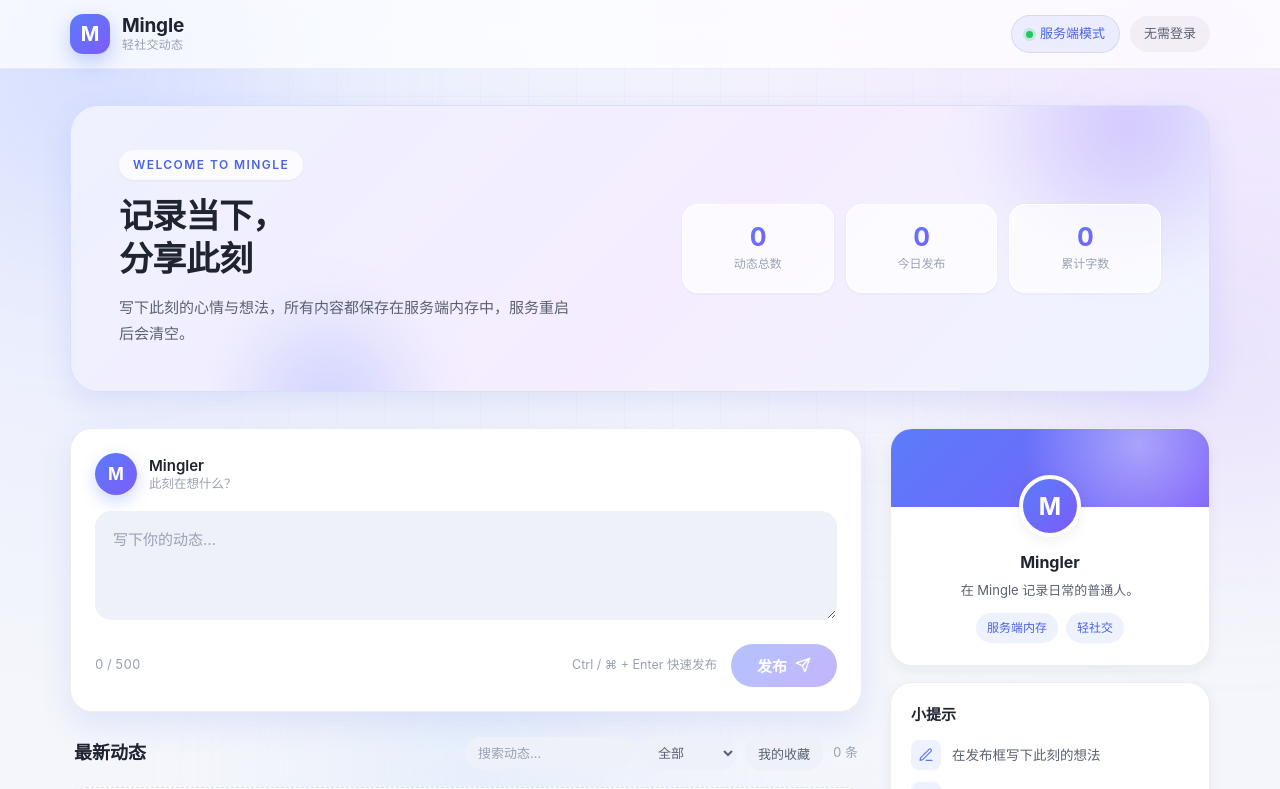
it: App › 关键词搜索实时过滤列表并显示命中条数
Type "今天去爬山" into the text box with placeholder "写下你的动态…".
click(466, 566); type("今天去爬山")  # box [95, 511, 837, 620]
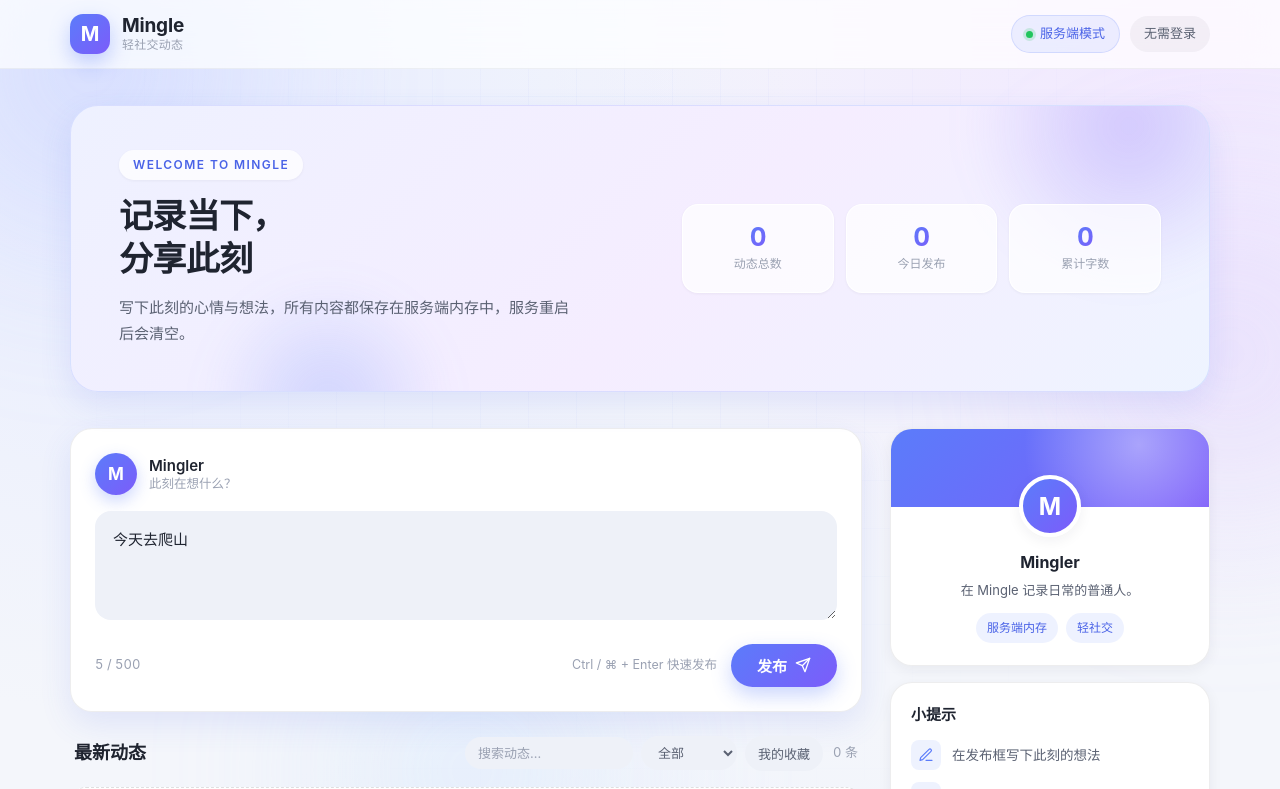
Click the button with class "composer__submit".
click(784, 665)  # box [731, 644, 837, 687]
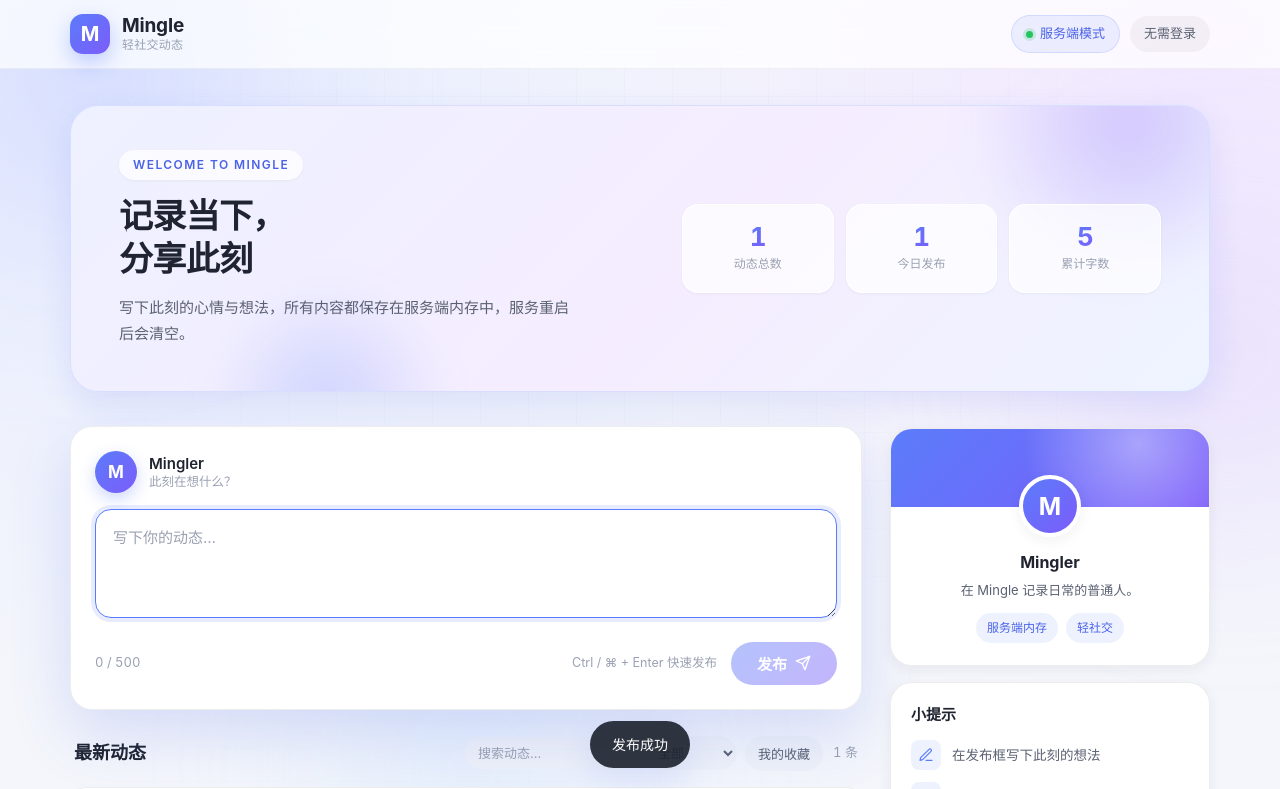
Type "看完一部电影" into the text box with placeholder "写下你的动态…".
click(466, 564); type("看完一部电影")  # box [95, 509, 837, 618]
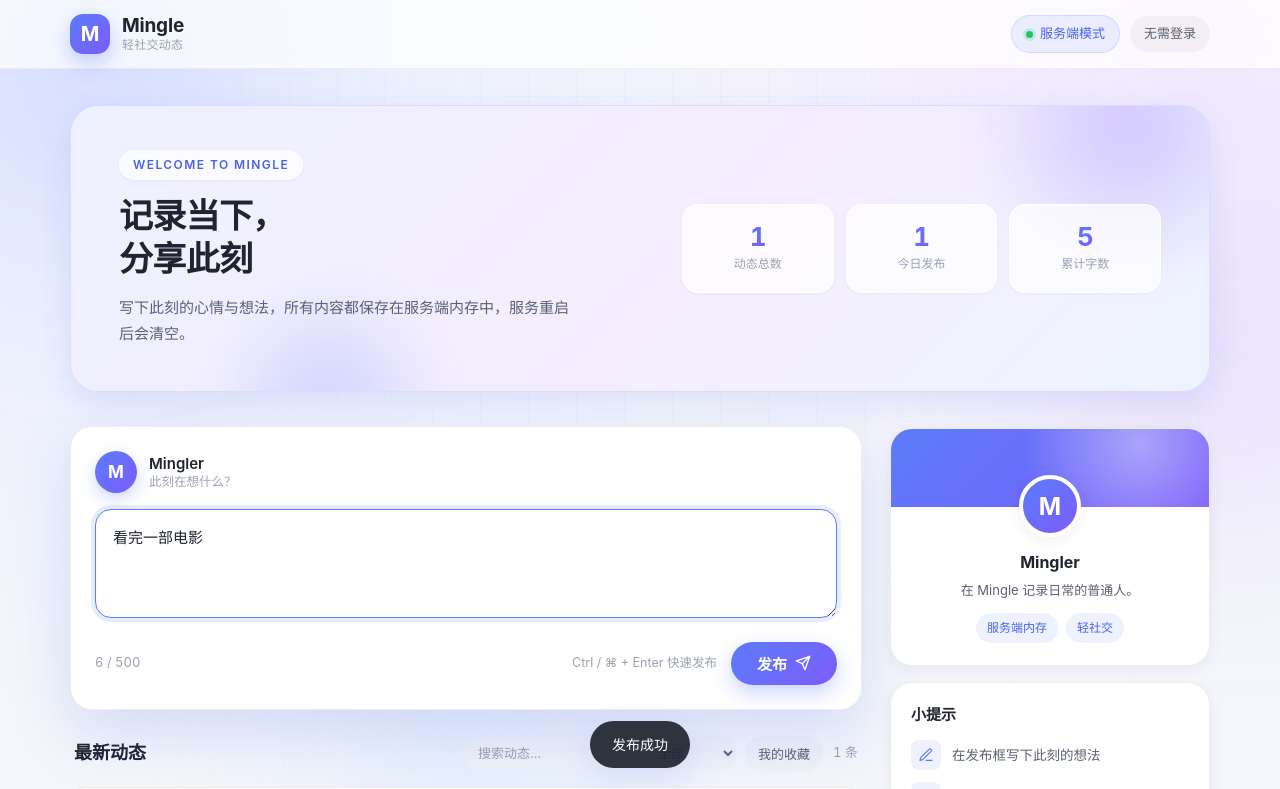
Click the button with class "composer__submit".
click(784, 663)  # box [731, 642, 837, 685]
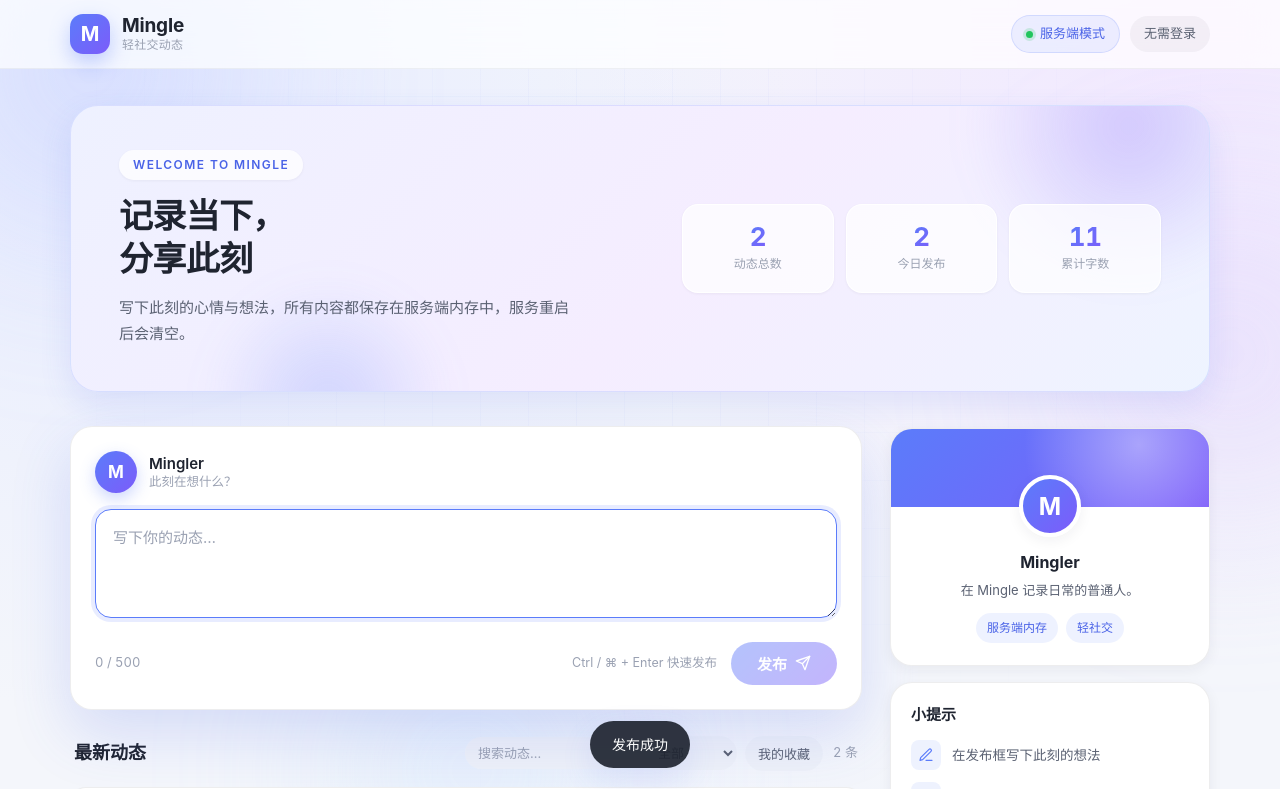
Type "爬山" into the search field with class "feed__search".
click(549, 753); type("爬山")  # box [465, 737, 633, 769]
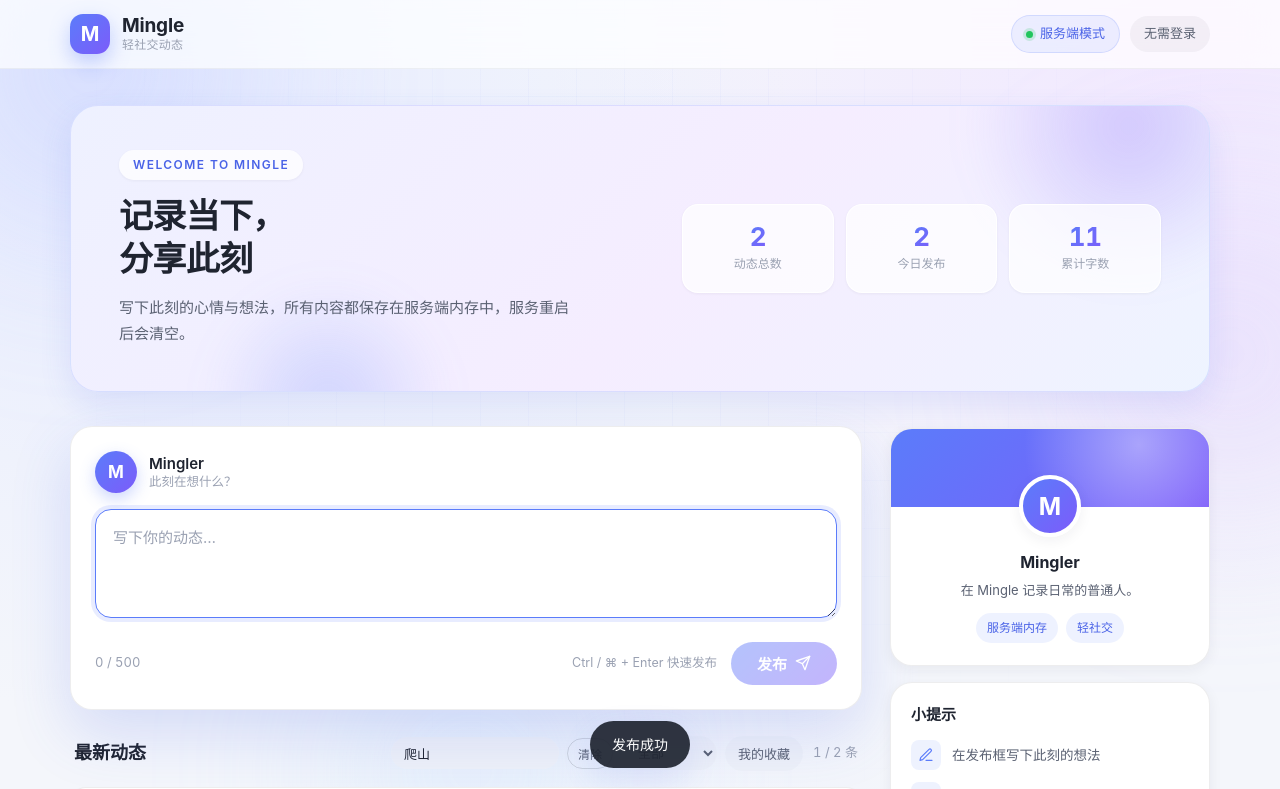
Result: the text with class "feed__count" reads "1 / 2 条" at [813, 744, 858, 760]
